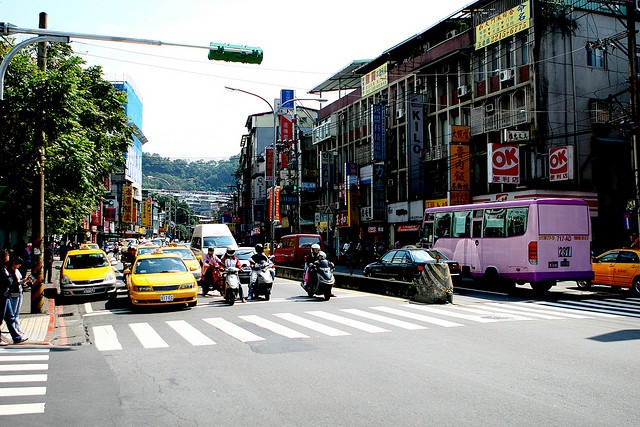non-vehicle: (299, 261, 334, 301), (246, 256, 277, 300), (197, 257, 225, 297), (217, 264, 241, 305)
